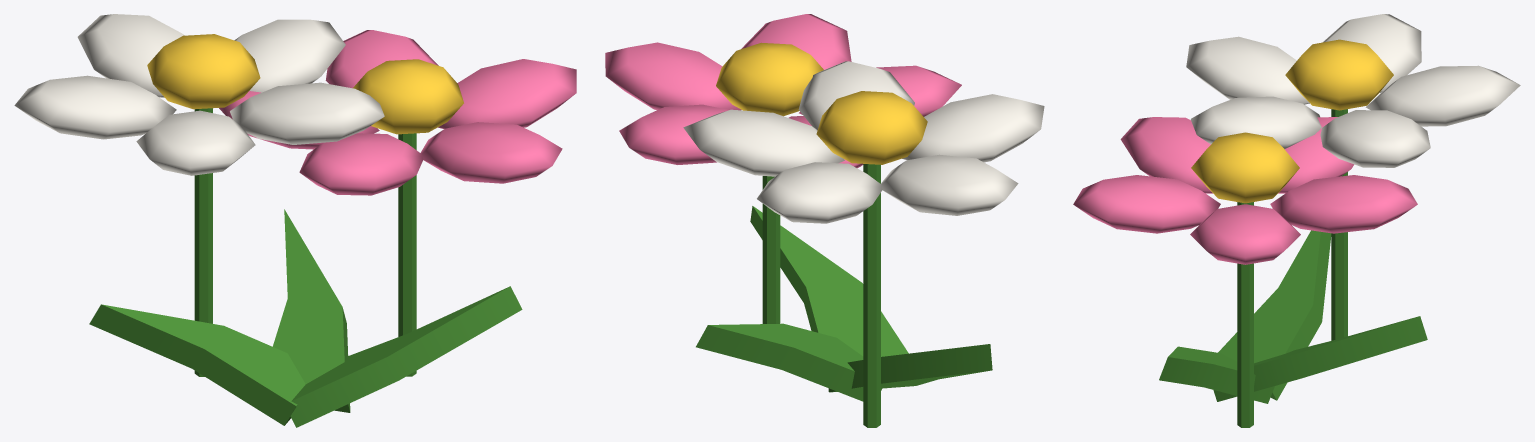
Rendered from prop_flower_1.glb.
3 views of the same model, side by side, from view 1: azimuth 30°, elevation 25°; view 2: azimuth 150°, elevation 25°; view 3: azimuth 270°, elevation 25° (orthographic). The views are drawn at different scales.
Parts seen in each view (by area): view 1: Leaf1, Leaf0, Petal1_2, Leaf2, Petal1_4, Petal0_4, Centre1, Petal0_0, Centre0, Petal0_3, Petal1_3, Petal1_0 (+5 smaller); view 2: Petal1_0, Leaf0, Leaf2, Petal1_3, Centre1, Petal0_0, Petal1_2, Petal1_1, Centre0, Stem1, Petal0_1, Leaf1 (+4 smaller); view 3: Leaf1, Petal1_1, Petal0_1, Petal0_4, Petal1_3, Centre1, Centre0, Leaf2, Petal1_0, Petal0_0, Petal1_4, Petal0_3 (+5 smaller).
Boxes of the visible parts, <box> form: Leaf1: <box>89,304,305,425</box>; Leaf0: <box>290,286,522,427</box>; Petal1_2: <box>14,75,176,139</box>; Leaf2: <box>272,209,350,412</box>; Petal1_4: <box>230,82,384,144</box>; Petal0_4: <box>420,122,562,183</box>; Centre1: <box>147,34,260,109</box>; Petal0_0: <box>438,59,576,128</box>; Centre0: <box>353,59,463,134</box>; Petal0_3: <box>299,133,423,195</box>; Petal1_3: <box>136,110,255,175</box>; Petal1_0: <box>234,19,345,92</box>; Petal1_0: <box>683,109,844,176</box>; Leaf0: <box>750,206,908,356</box>; Leaf2: <box>696,323,883,401</box>; Petal1_3: <box>902,94,1044,162</box>; Centre1: <box>816,91,927,164</box>; Petal0_0: <box>605,42,741,110</box>; Petal1_2: <box>881,154,1018,215</box>; Petal1_1: <box>757,162,882,223</box>; Centre0: <box>716,42,823,116</box>; Stem1: <box>863,164,880,427</box>; Petal0_1: <box>619,104,728,164</box>; Leaf1: <box>828,344,992,392</box>; Leaf1: <box>1218,230,1331,400</box>; Petal1_1: <box>1365,65,1520,126</box>; Petal0_1: <box>1270,175,1417,233</box>; Petal0_4: <box>1073,175,1220,233</box>; Petal1_3: <box>1186,36,1309,104</box>; Centre1: <box>1285,39,1393,110</box>; Centre0: <box>1191,132,1299,203</box>; Leaf2: <box>1213,316,1427,401</box>; Petal1_0: <box>1320,110,1430,167</box>; Petal0_0: <box>1190,204,1300,264</box>; Petal1_4: <box>1190,96,1321,149</box>; Petal0_3: <box>1120,117,1212,193</box>.
Size of the model in its own units: 0.6196 by 0.4181 by 0.5339.
